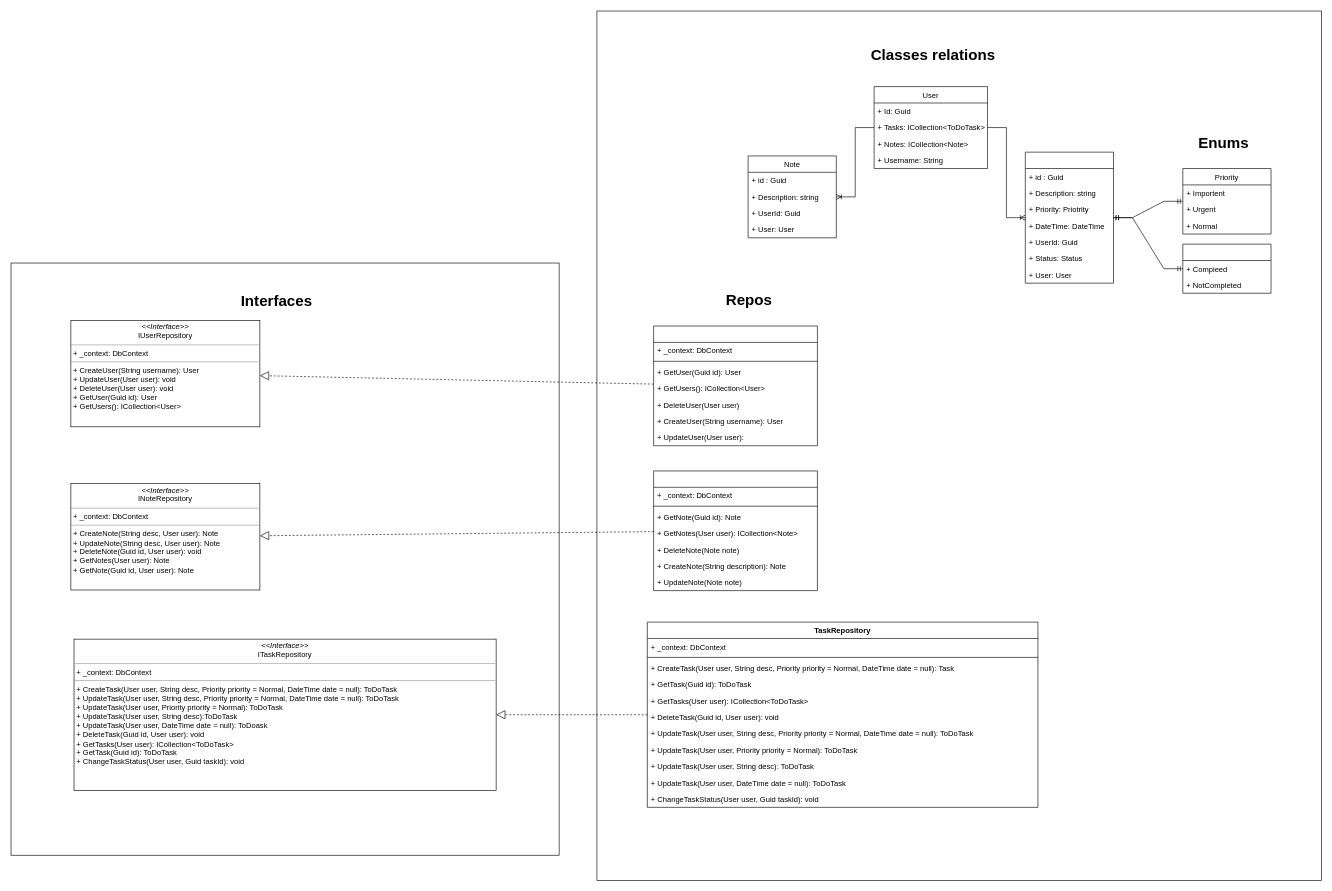
Some shapes in this 1332 by 891 pixel diagram are drawn without their labels. The box of each missing label's shape, as (x1, y1, x2, y2) in pixels:
NoteRepository: (653, 470, 817, 591)
Status: (1182, 243, 1271, 293)
ToDoTask: (1025, 152, 1114, 283)
UserRepository: (653, 325, 817, 446)
